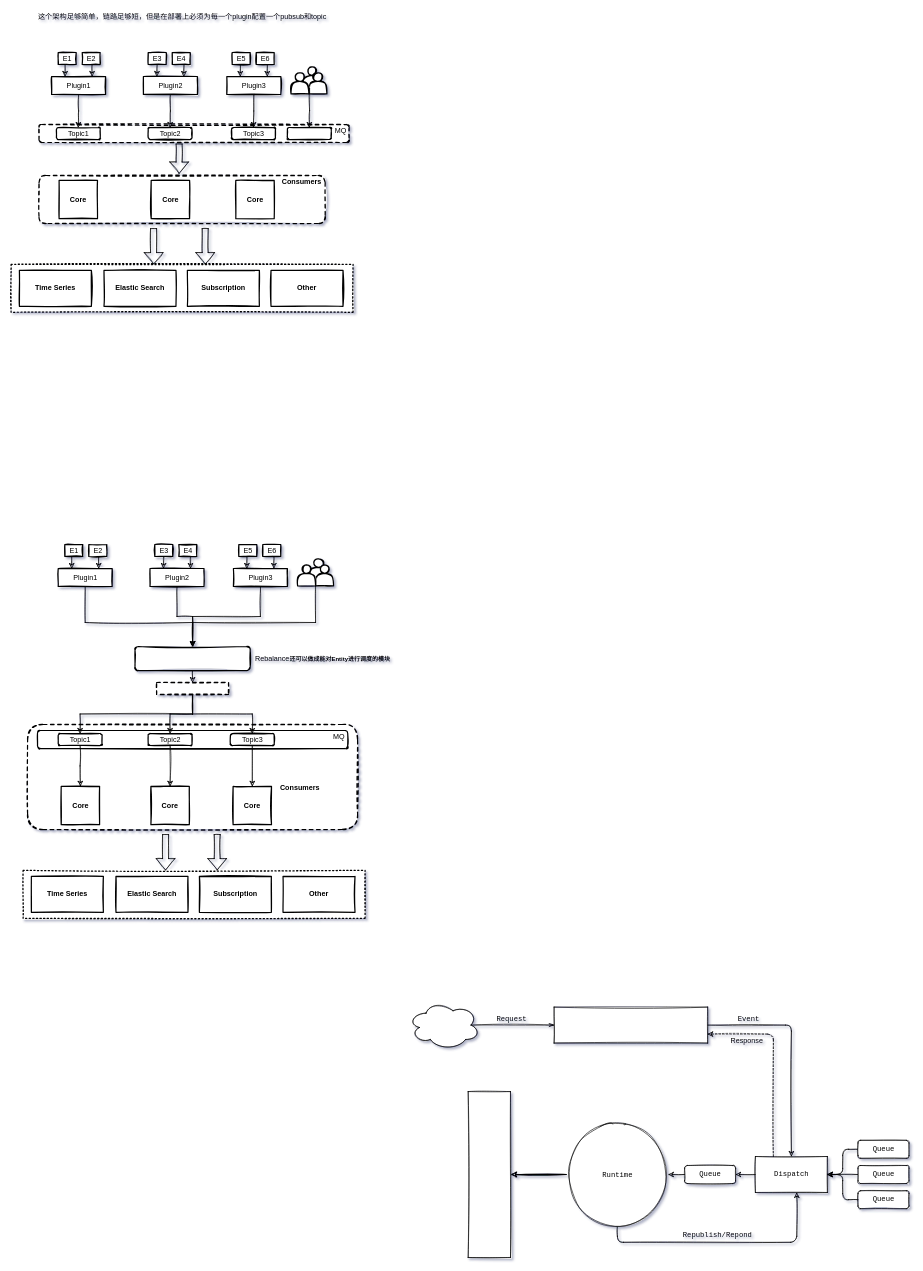
Image size: 923x1271. Some labels were removed from this diagram. Each missing label, with the centre of its shape:
API Manager: point (631, 1024)
Front: point (309, 133)
Public Topic: point (192, 658)
Rebalance: point (192, 688)
Resource: point (489, 1174)
